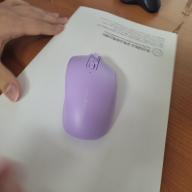mouse: (61, 51, 118, 142)
